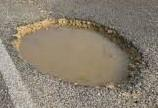pothole: (13, 16, 144, 89)
